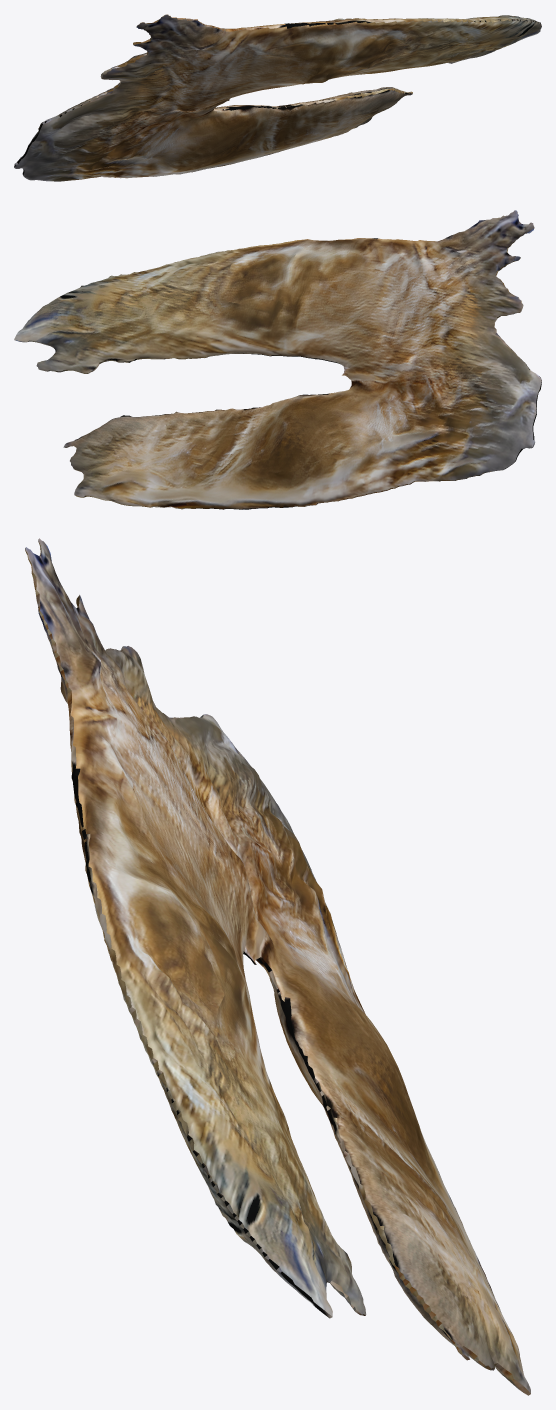
Rendered from asset.glb.
The picture shows the model from 3 angles, top to bottom: view 1: azimuth 30°, elevation 25°; view 2: azimuth 150°, elevation 25°; view 3: azimuth 270°, elevation 25°; orthographic projection. The views are drawn at different scales.
Visible parts, largest first — view 1: lapacho1; view 2: lapacho1; view 3: lapacho1.
Part boxes in pixels (<box>): lapacho1: <box>14,14,541,181</box>; lapacho1: <box>14,210,541,509</box>; lapacho1: <box>25,538,530,1395</box>.
Size of the model in its own units: 4.96 by 2.54 by 2.15.
Materials: 1 (1 with a texture image).
